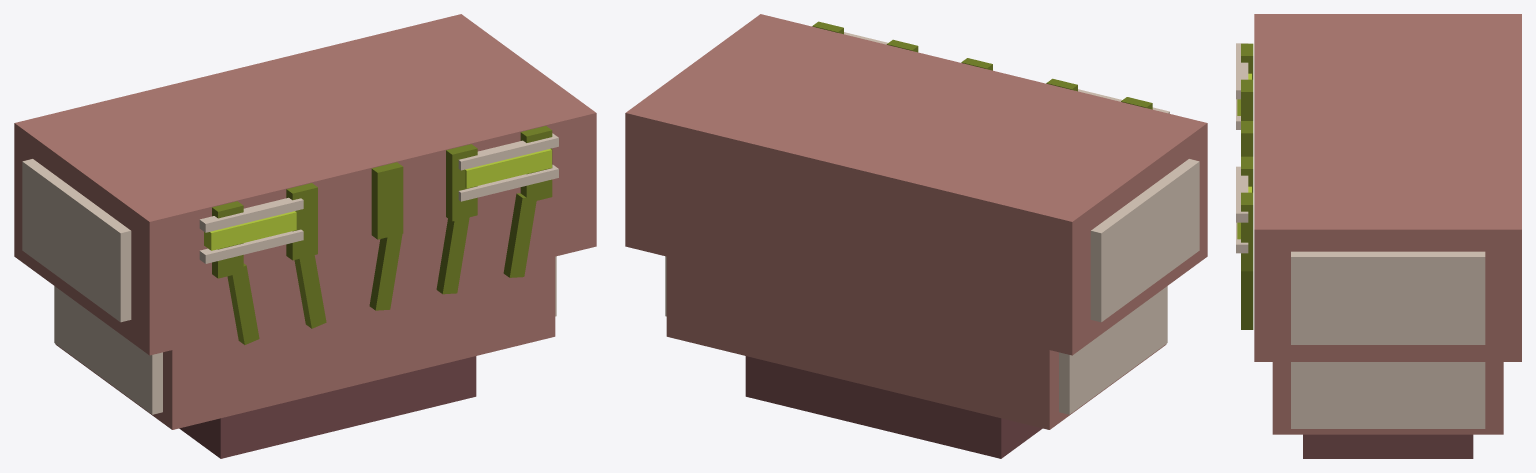
Rendered from inf_driver_part_belly.fbx.
3 views of the same model, side by side, from view 1: azimuth 30°, elevation 25°; view 2: azimuth 150°, elevation 25°; view 3: azimuth 270°, elevation 25° (orthographic).
Parts seen in each view (by area): view 1: inf_driver_part_belly; view 2: inf_driver_part_belly; view 3: inf_driver_part_belly.
Part boxes in pixels (box(x1,y1,x2,y2)): inf_driver_part_belly: box(14, 14, 596, 458); inf_driver_part_belly: box(625, 14, 1207, 458); inf_driver_part_belly: box(1236, 14, 1521, 458).
Bounding box in the file's own units: 220 × 125 × 118.
